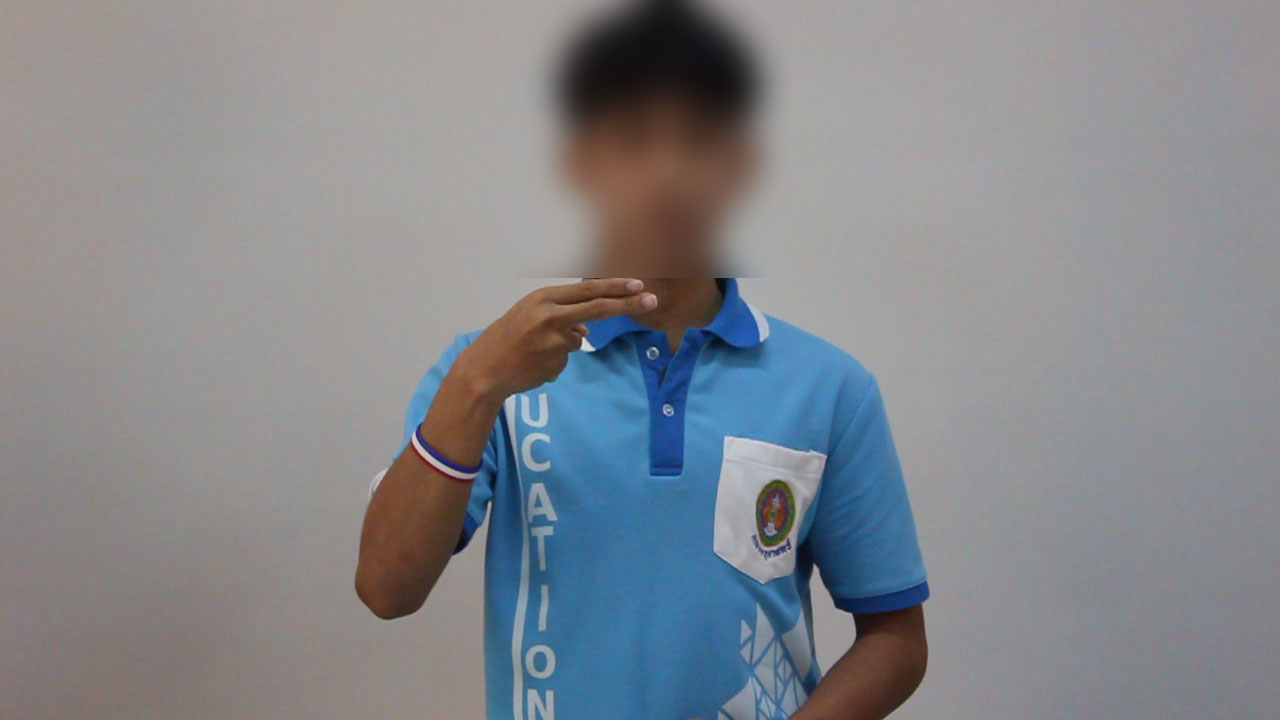hor: (457, 271, 673, 399)
